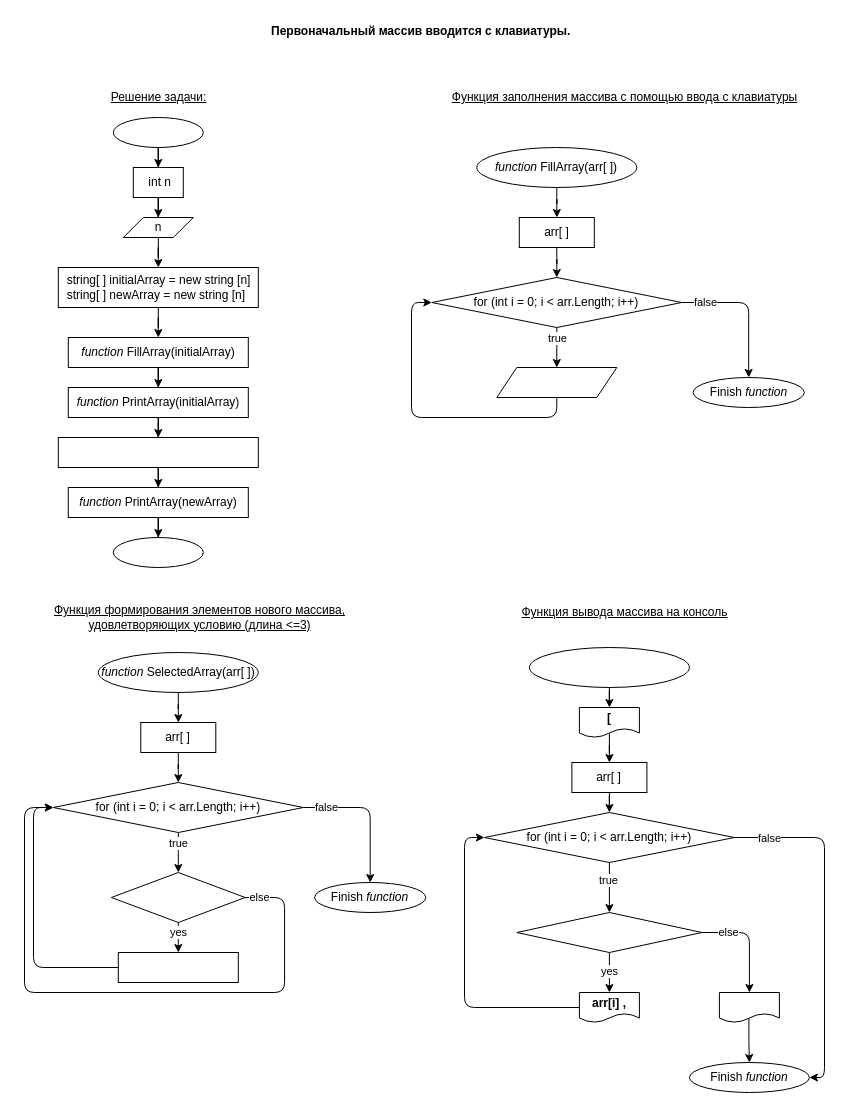
Image size: 850x1110. Some labels were removed from this diagram. The centre of each missing label's shape, as x and y in pixels:
"arr[i] ]" goes at point (748, 1007).
"arr[i].Length <= 3" goes at point (177, 897).
"Finish" goes at point (157, 552).
"function PrintArray(arr[ ])" goes at point (608, 667).
"function SelectedArray(initialArray)" goes at point (157, 452).
"i < arr.Length-1" goes at point (609, 932).
"initialArray[i]" goes at point (556, 382).
"newArray[i] = arr[i]" goes at point (177, 967).
"Start" goes at point (157, 132).
